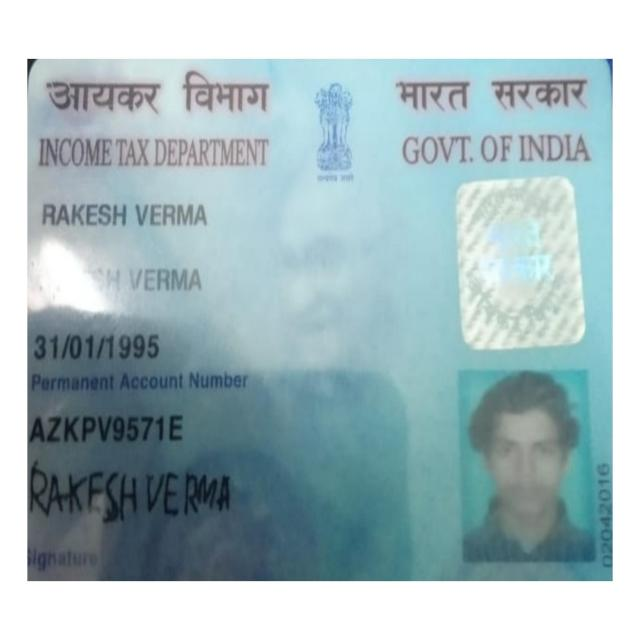pan_card: (26, 62, 611, 580)
